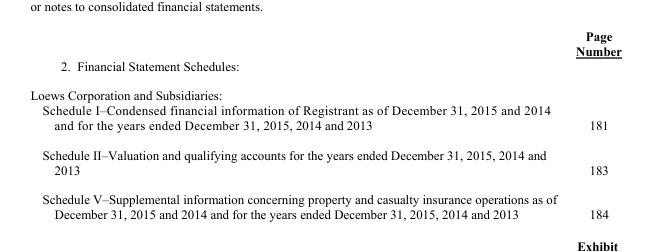table: (29, 28, 621, 221)
table column: (29, 28, 565, 221), (565, 28, 621, 221)
table column header: (29, 28, 621, 58)
table projected row header: (29, 58, 621, 80), (29, 80, 621, 102)
table row: (29, 139, 621, 184), (29, 102, 621, 139), (29, 184, 621, 221), (29, 28, 621, 58), (29, 58, 621, 80), (29, 80, 621, 102)
